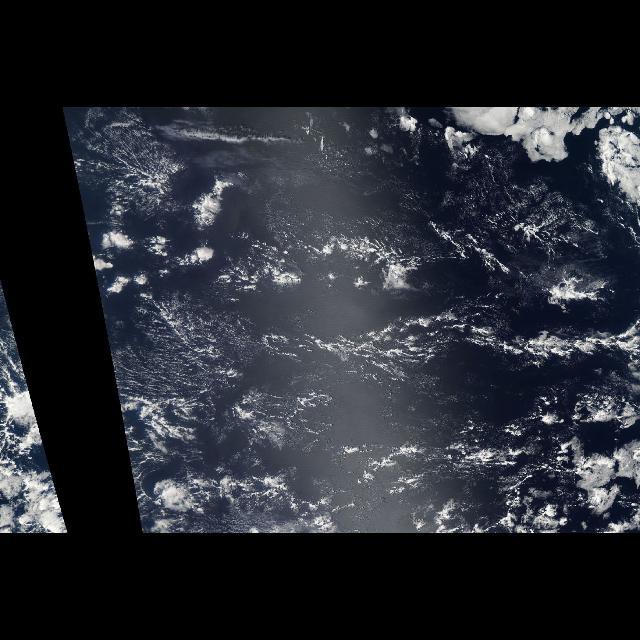Flower: (88, 218, 230, 306)
Sugar: (126, 330, 217, 402)
